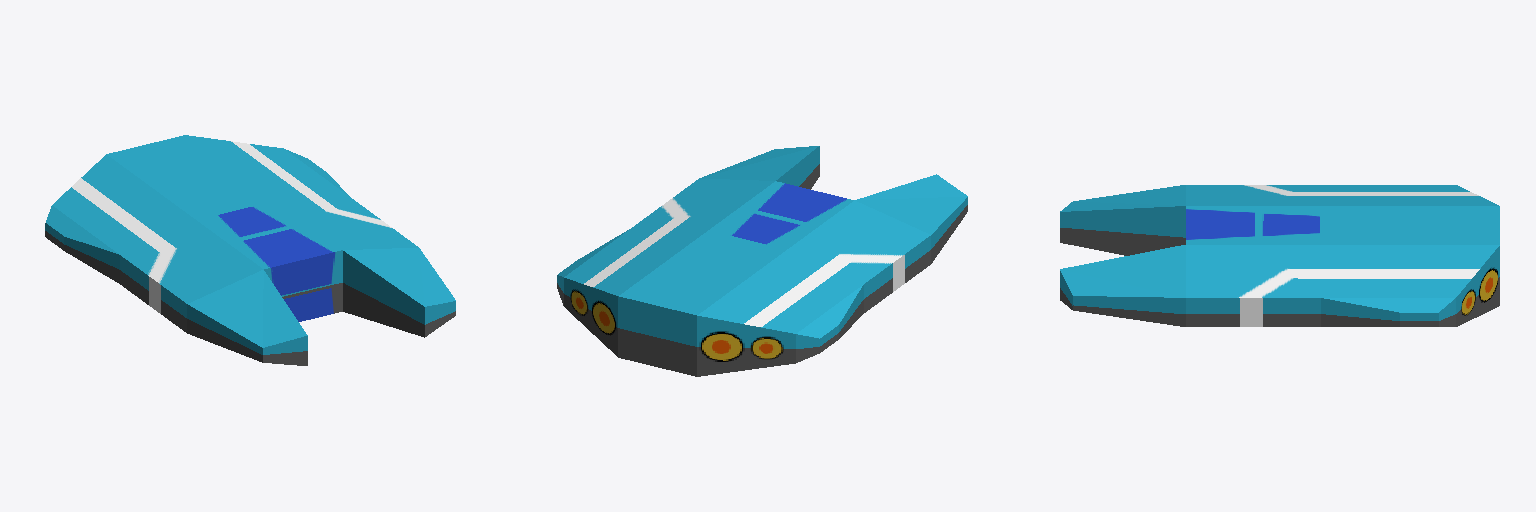
3 views of the same model, side by side, from view 1: azimuth 30°, elevation 25°; view 2: azimuth 150°, elevation 25°; view 3: azimuth 270°, elevation 25° (orthographic).
Parts seen in each view (by area): view 1: Cube; view 2: Cube; view 3: Cube.
Part boxes in pixels (left/top/right/bottom): Cube: left=45, top=135, right=455, bottom=365; Cube: left=557, top=146, right=967, bottom=376; Cube: left=1060, top=185, right=1499, bottom=326.
Size of the model in its own units: 3.43 by 0.7674 by 4.99.
1 materials, 1 textured.